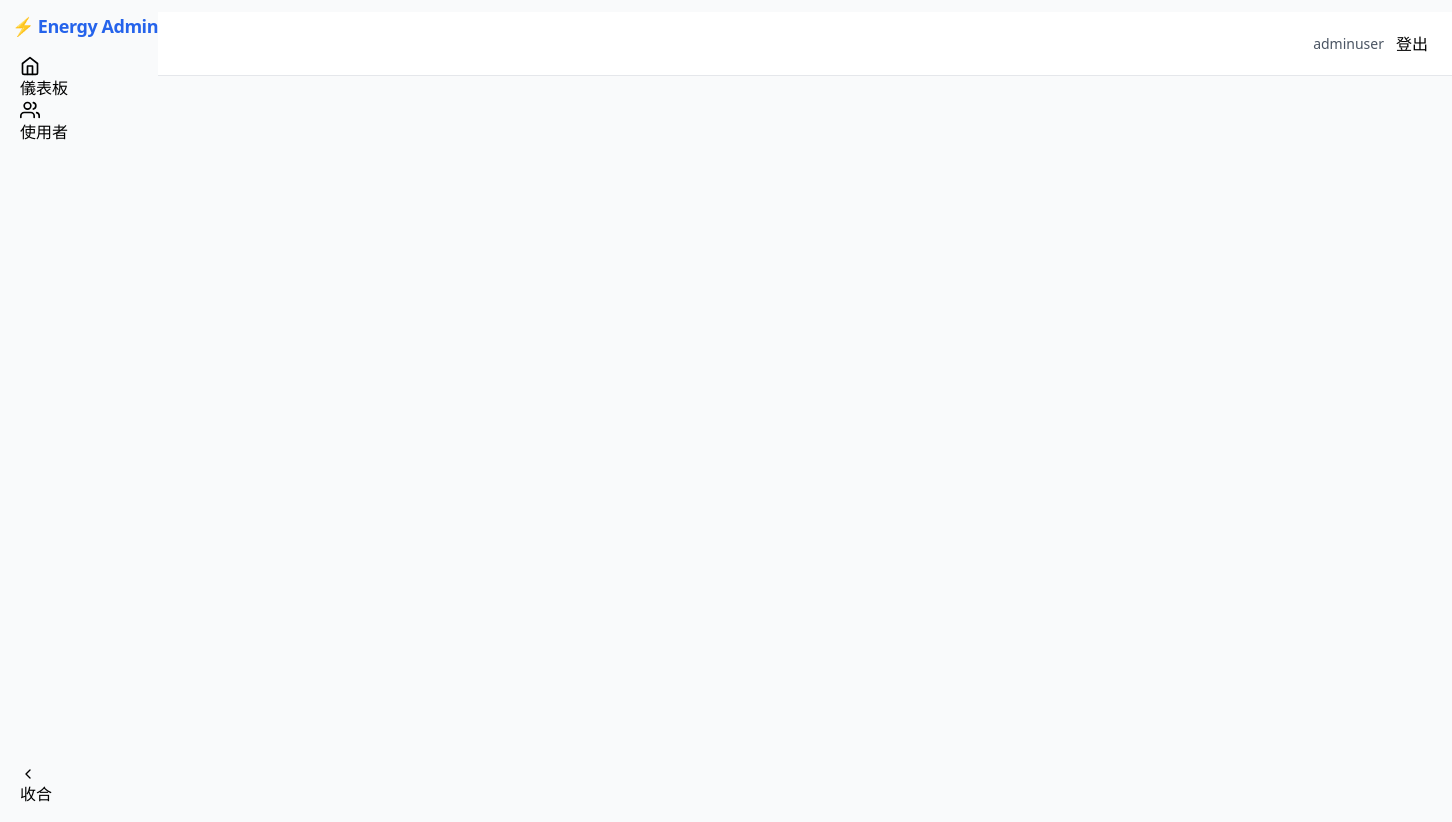
it: AppLayout › sidebar collapse toggle changes aria-label
The image size is (1452, 822).
Click the button with aria-label "收合側欄" at (36, 786), box top-left (20, 766), bottom-right (52, 806)
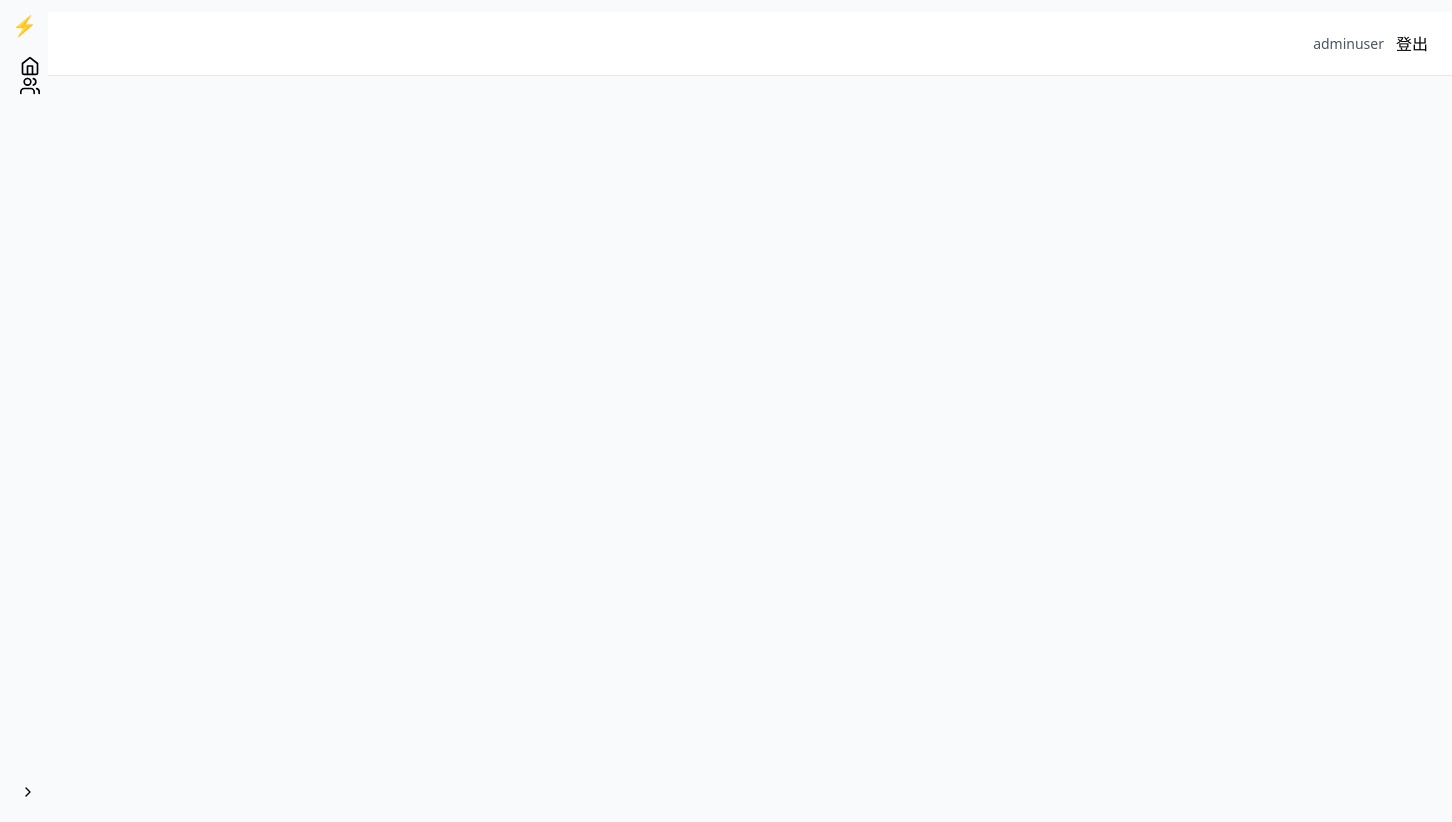
Now the button named "展開側欄" is shown, box top-left (20, 784), bottom-right (36, 800)
